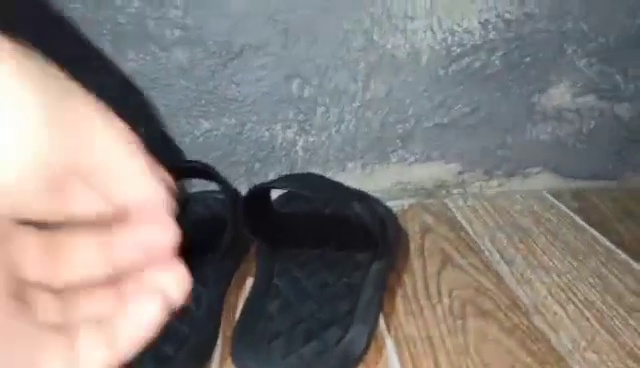slipper: (233, 175, 401, 368), (126, 168, 246, 368)
